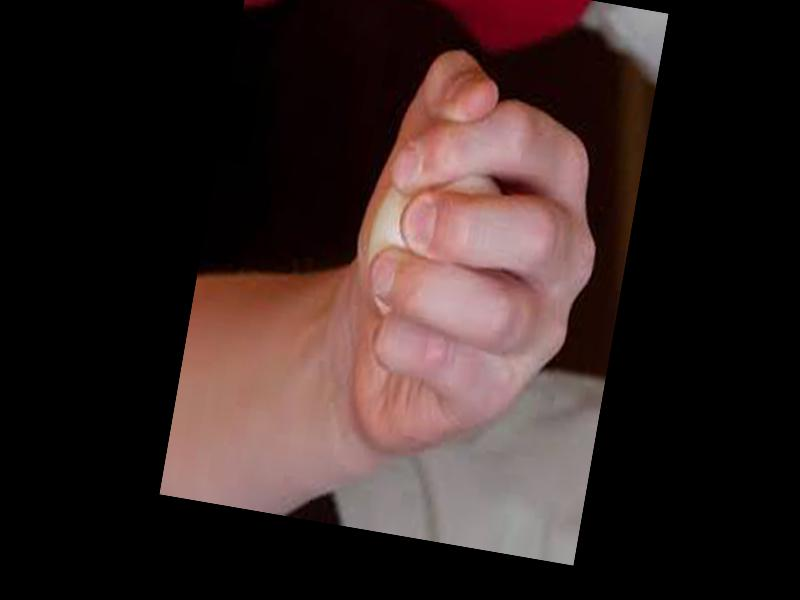Eggs: (356, 138, 509, 331)
